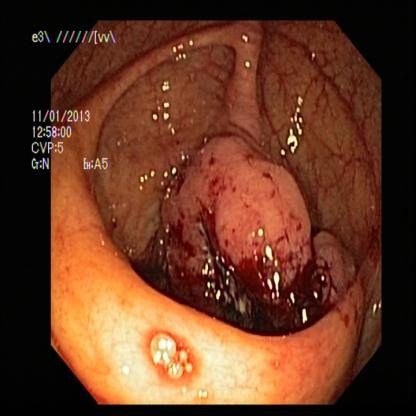Labels: (31, 27, 120, 176)
Polyps: (171, 144, 335, 306)
